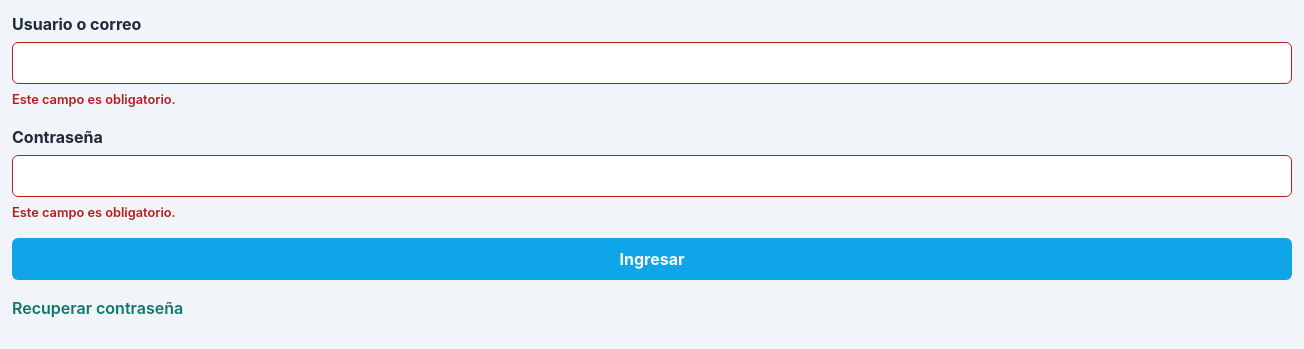
Test: LoginPage › muestra error del backend
The image size is (1304, 349).
Type "Admin1234" into the field labelled "Usuario o correo Este campo es obligatorio." at (652, 63), box [12,42,1292,84]
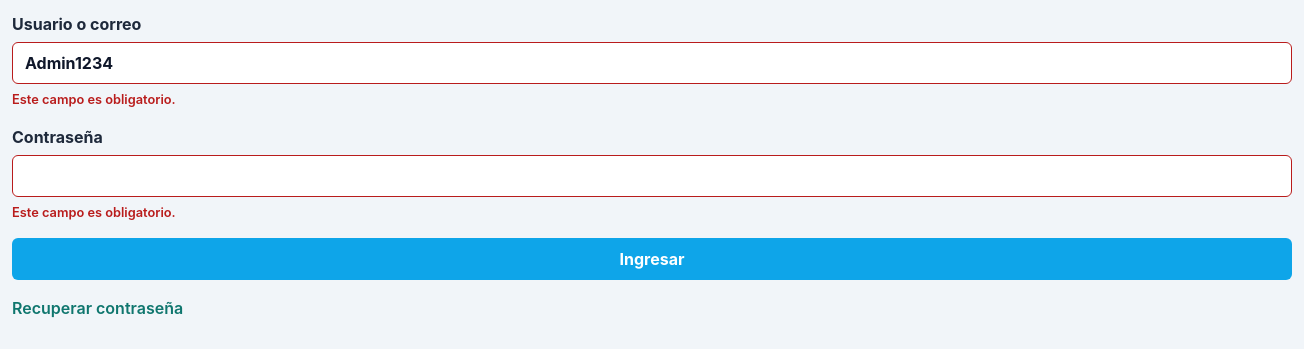
Type "AdminViamatica@500" into the password field labelled "Contraseña Este campo es obligatorio." at (652, 176), box [12,155,1292,197]
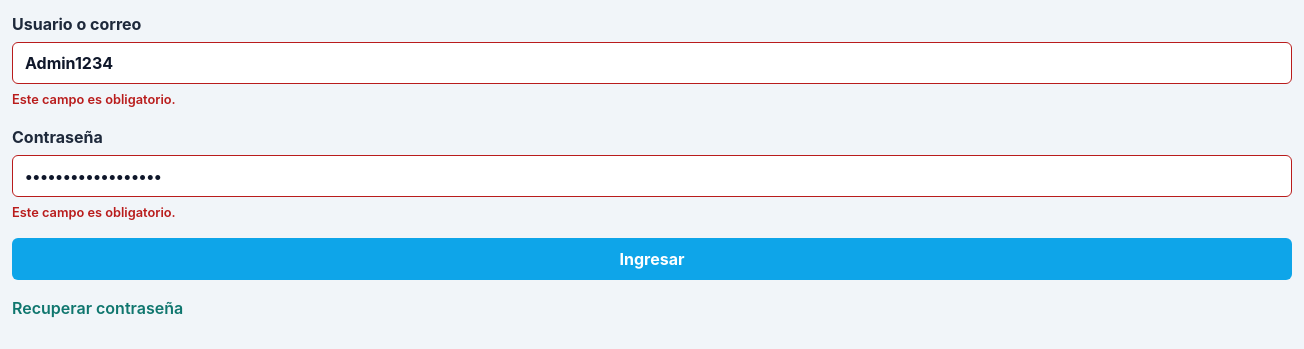
Click the button "Ingresar" at (652, 259), box [12,238,1292,280]
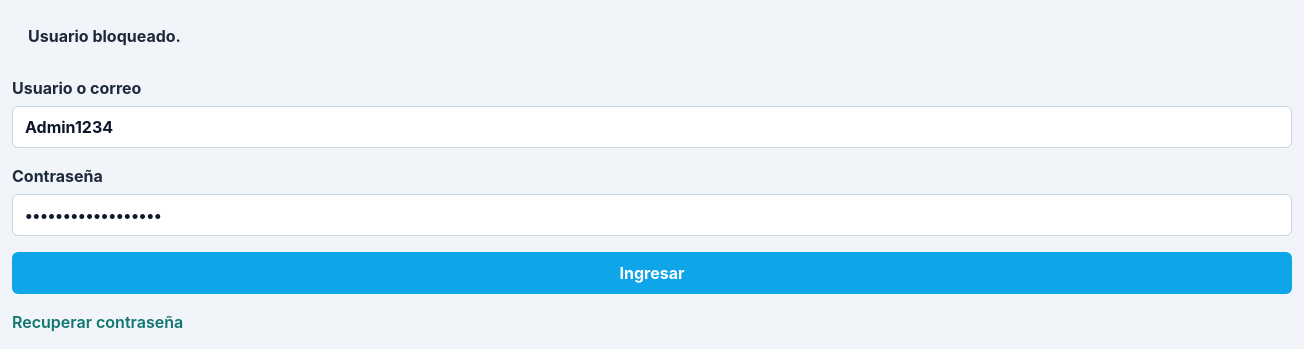
expect the text "Usuario bloqueado." is shown: met, box [28,26,181,46]
